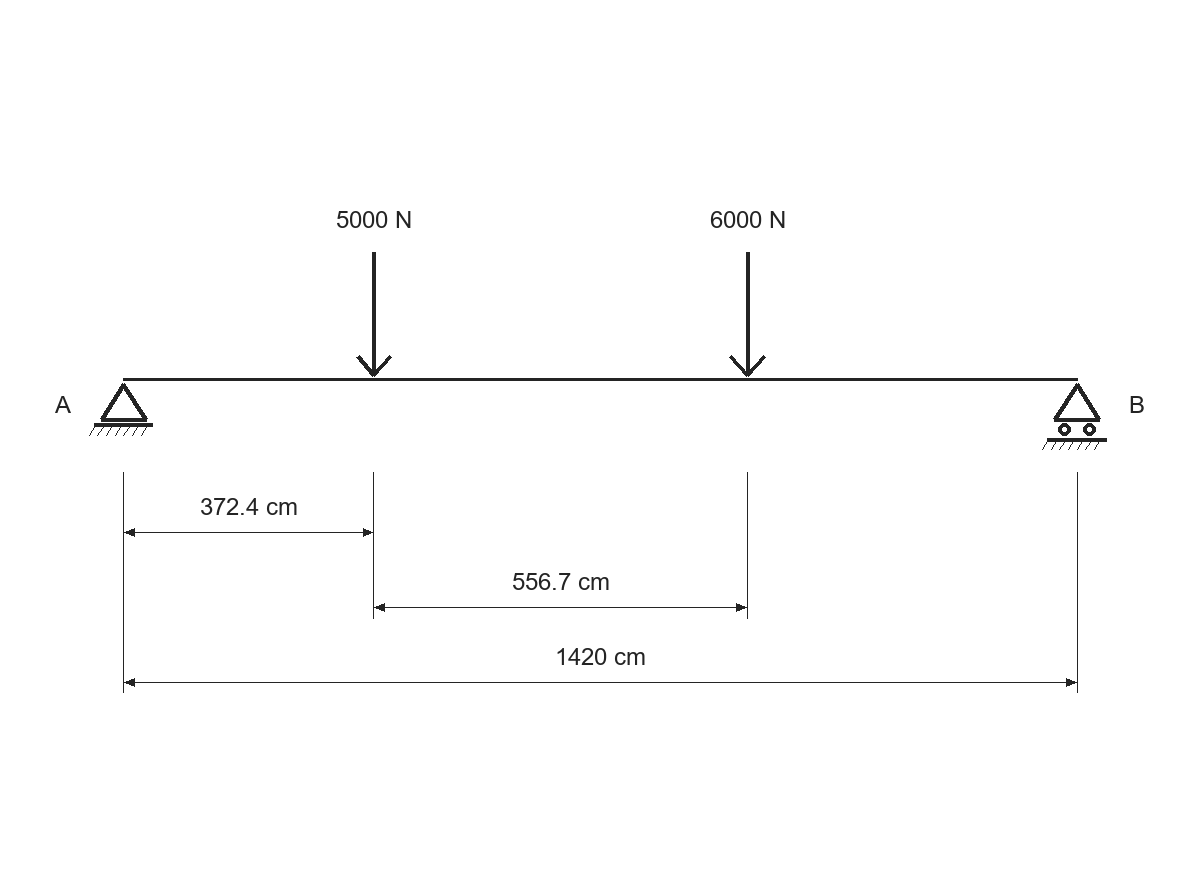pin_support: (89, 383, 153, 436)
point_load: (729, 252, 766, 377), (356, 252, 392, 377)
roller_support: (1042, 383, 1107, 450)
